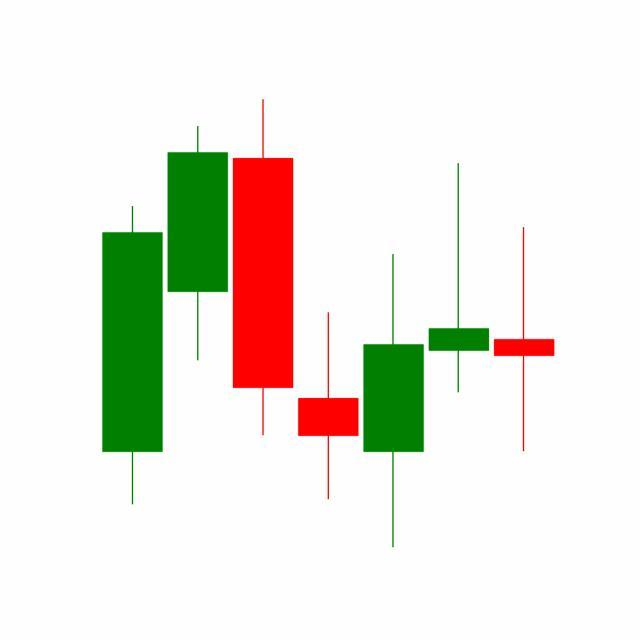Three Outside Up-Down: (295, 159, 492, 549)
